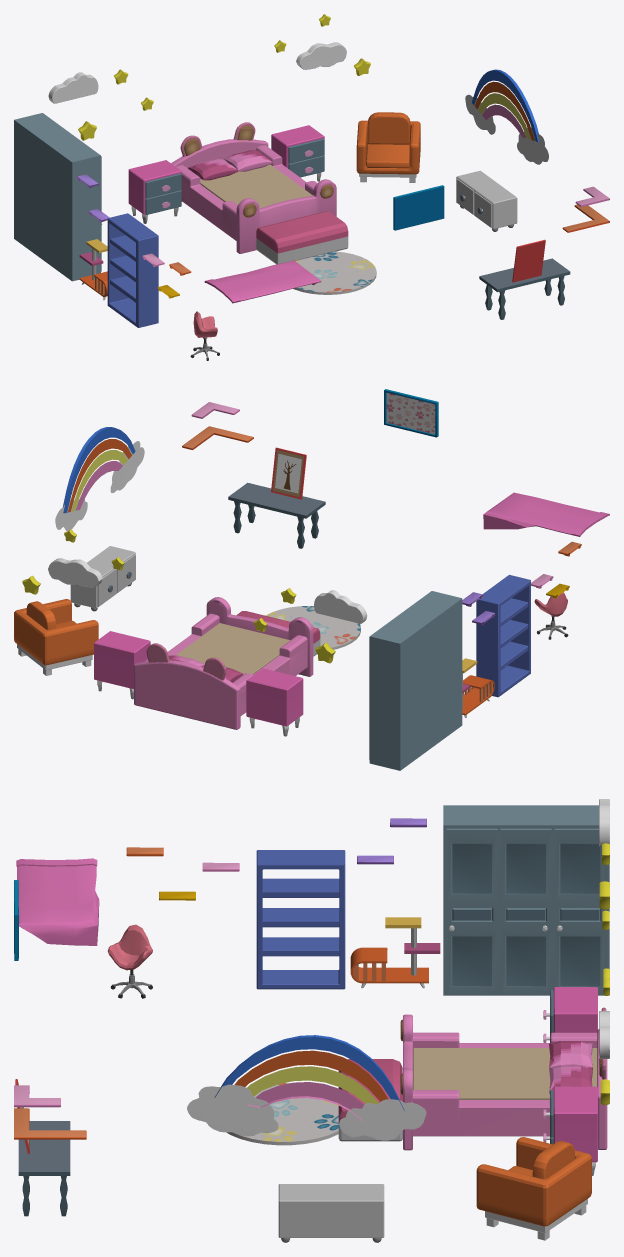
File: Child room.fbx
3 renders of one model, top to bottom at view 1: azimuth 30°, elevation 25°; view 2: azimuth 150°, elevation 25°; view 3: azimuth 270°, elevation 25°, orthographic. The views are drawn at different scales.
Parts seen in each view (by area): view 1: Child room, Child room.016, Child room.015, Child room.009, Child room.012, Child room.011, Child room.010, Child room.013, Child room.008, Child room.001, Child room.007, Child room.014; view 2: Child room, Child room.016, Child room.015, Child room.009, Child room.010, Child room.011, Child room.013, Child room.012, Child room.008, Child room.001, Child room.007, Child room.014; view 3: Child room, Child room.016, Child room.015, Child room.009, Child room.011, Child room.012, Child room.001, Child room.010, Child room.007, Child room.014.
Boxes of the visible parts, bbox=[...] form: Child room: bbox=[48, 14, 548, 303]; Child room.016: bbox=[14, 113, 102, 281]; Child room.015: bbox=[107, 213, 158, 327]; Child room.009: bbox=[356, 112, 420, 182]; Child room.012: bbox=[293, 251, 376, 294]; Child room.011: bbox=[456, 170, 517, 231]; Child room.010: bbox=[479, 258, 570, 319]; Child room.013: bbox=[393, 185, 444, 230]; Child room.008: bbox=[512, 239, 545, 282]; Child room.001: bbox=[79, 239, 107, 300]; Child room.007: bbox=[562, 186, 609, 232]; Child room.014: bbox=[190, 311, 219, 360]; Child room: bbox=[22, 427, 609, 736]; Child room.016: bbox=[369, 591, 462, 770]; Child room.015: bbox=[476, 574, 530, 697]; Child room.009: bbox=[14, 599, 98, 675]; Child room.010: bbox=[228, 482, 325, 548]; Child room.011: bbox=[70, 546, 135, 611]; Child room.013: bbox=[384, 389, 438, 437]; Child room.012: bbox=[266, 606, 360, 649]; Child room.008: bbox=[271, 447, 306, 499]; Child room.001: bbox=[462, 658, 494, 717]; Child room.007: bbox=[182, 402, 253, 449]; Child room.014: bbox=[534, 592, 568, 639]; Child room: bbox=[16, 799, 609, 1175]; Child room.016: bbox=[443, 805, 609, 995]; Child room.015: bbox=[256, 850, 345, 989]; Child room.009: bbox=[476, 1137, 591, 1240]; Child room.011: bbox=[278, 1184, 384, 1242]; Child room.012: bbox=[226, 1083, 338, 1145]; Child room.001: bbox=[350, 917, 440, 988]; Child room.010: bbox=[18, 1121, 70, 1216]; Child room.007: bbox=[14, 1085, 86, 1139]; Child room.014: bbox=[107, 924, 152, 998].
Size of the model in its own units: 837 by 312 by 776.
